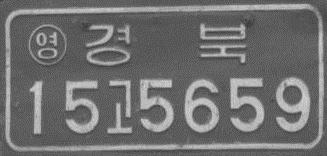1: (24, 78, 48, 135)
5: (228, 75, 266, 135), (61, 78, 100, 135), (137, 77, 176, 134)
6: (182, 77, 219, 133)
9: (273, 76, 311, 133)
경북_D: (82, 22, 249, 69)
고: (105, 78, 135, 135)
영: (28, 22, 69, 67)
